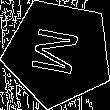M_E: (29, 25, 88, 81)
